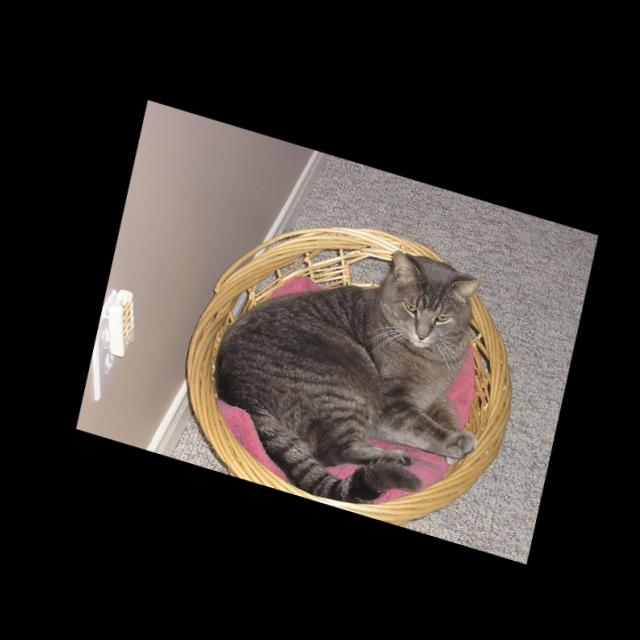animals: (376, 247, 484, 350)
